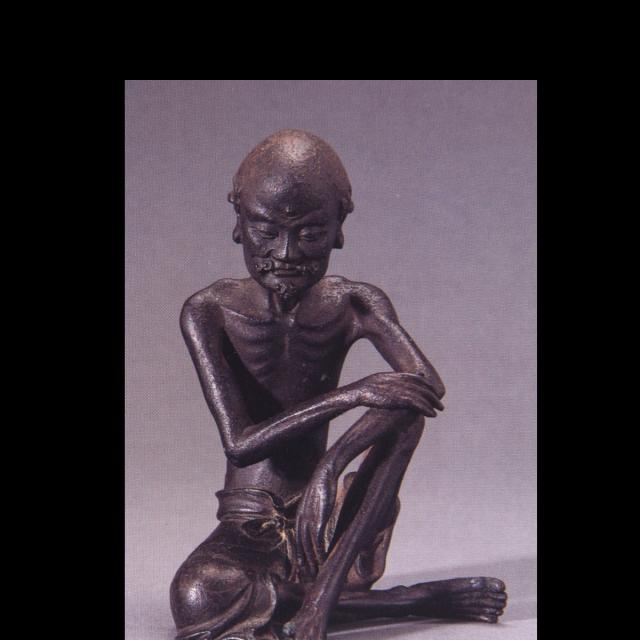buddha-sitting: (170, 130, 506, 640)
